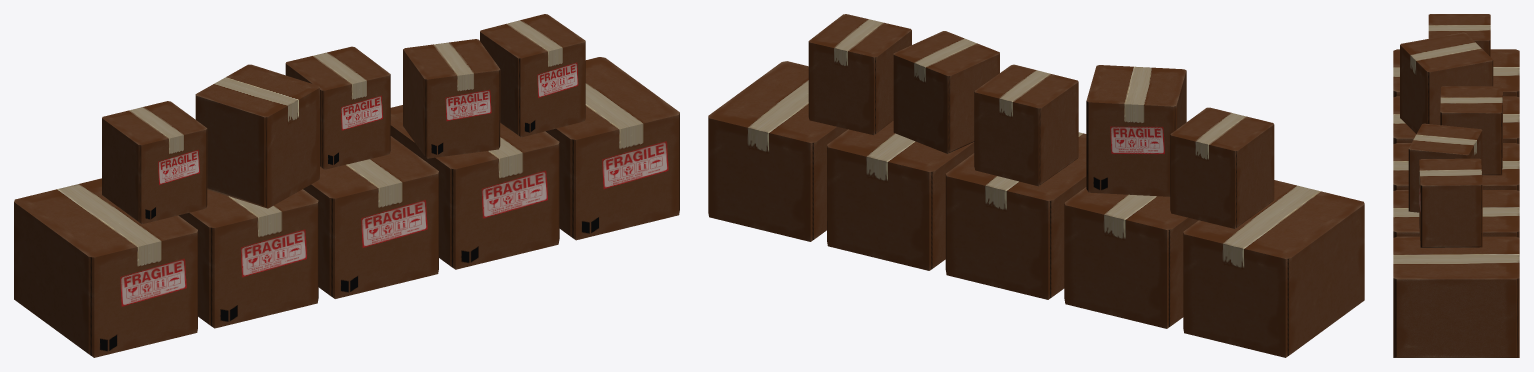
The model's file is box_pile5.fbx.
The picture shows the model from 3 angles, left to right: view 1: azimuth 30°, elevation 25°; view 2: azimuth 150°, elevation 25°; view 3: azimuth 270°, elevation 25°; orthographic projection. The views are drawn at different scales.
Parts seen in each view (by area): view 1: pile_boite_5; view 2: pile_boite_5; view 3: pile_boite_5.
Boxes of the visible parts, box(x1,y1,x2,y2) form: pile_boite_5: box(14, 14, 679, 357); pile_boite_5: box(708, 14, 1364, 357); pile_boite_5: box(1393, 14, 1519, 357).
Bounding box in the file's own units: 553 × 174 × 128.
